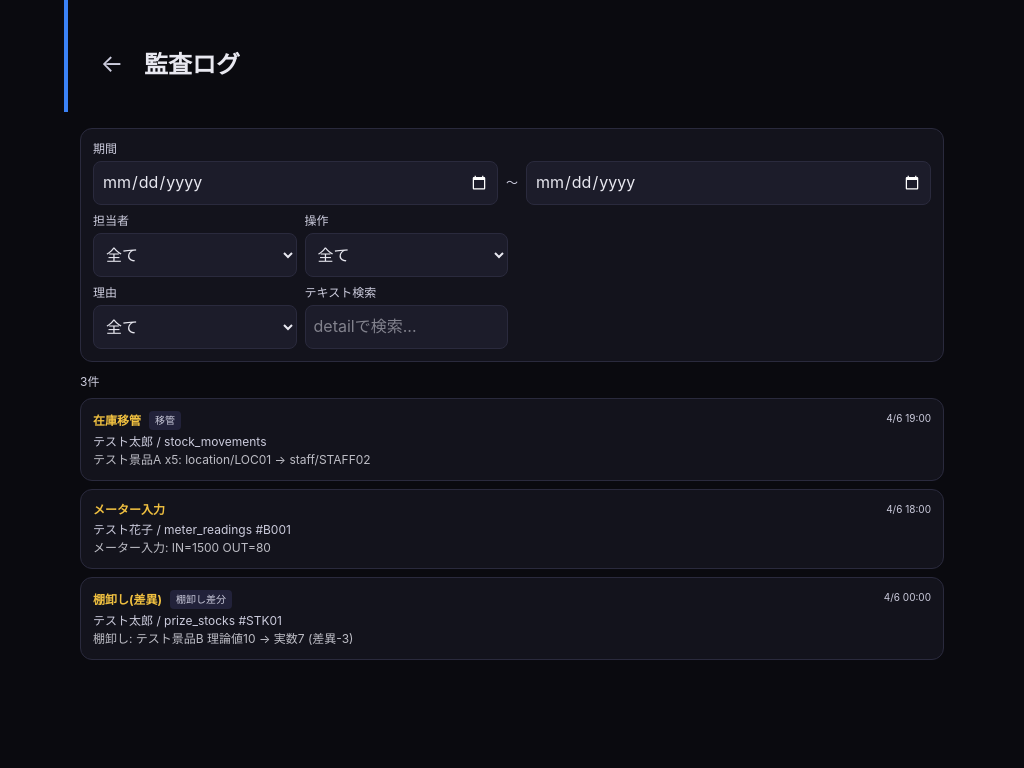
Test case: AuditLog 監査ログ画面 › action フィルタで結果が変わる
Expected: the text "テスト景品A x5: location/LOC01 → staff/STAFF02" is shown, [93,452,371,467]
Expected: the text "3件" is shown, [80,374,99,389]
Select "在庫移管" in the dropdown below "操作". click: (406, 255)
box: [304,233,508,277]
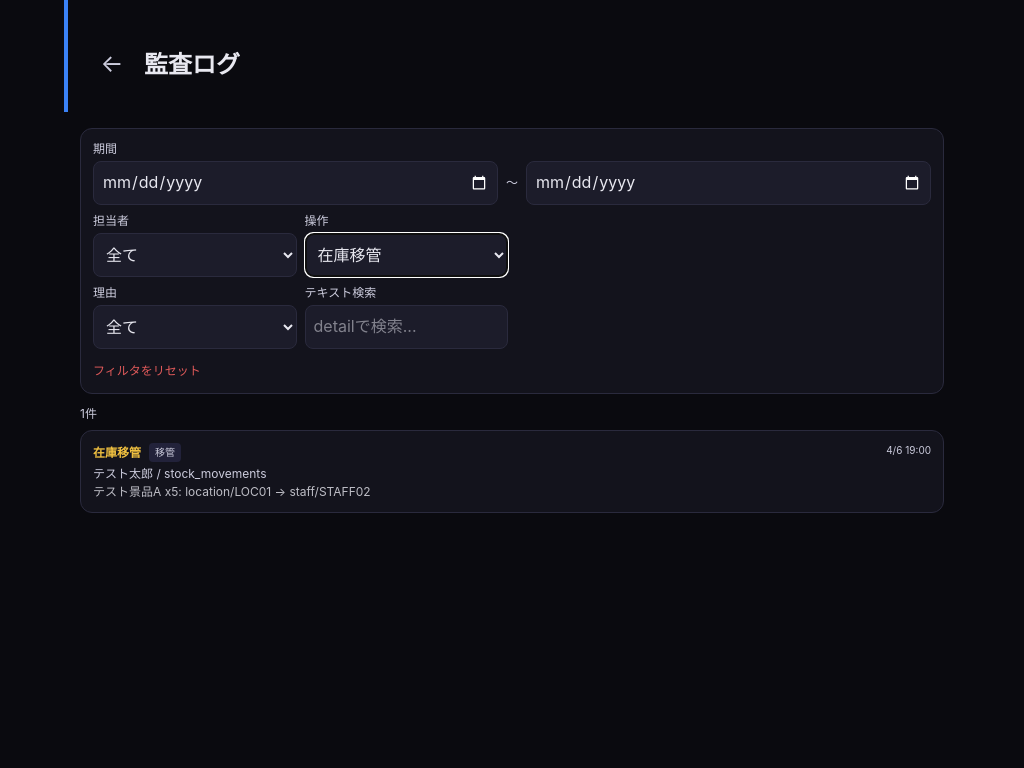
Expected: the text "1件" is shown, [80,406,97,421]
